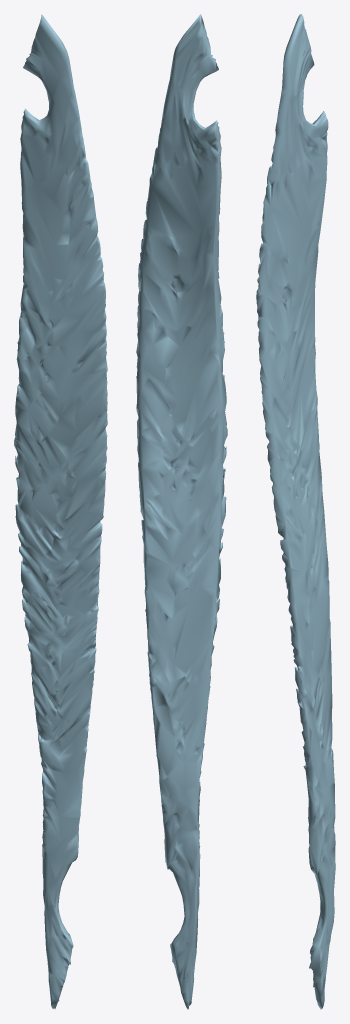
The model's file is articulacoes-interosseous-membrane-of-leg-r.glb.
3 views of the same model, side by side, from view 1: azimuth 30°, elevation 25°; view 2: azimuth 210°, elevation 25°; view 3: azimuth 270°, elevation 25° (orthographic). The views are drawn at different scales.
Visible parts, largest first — view 1: Interosseous membrane of leg.r; view 2: Interosseous membrane of leg.r; view 3: Interosseous membrane of leg.r.
Boxes of the visible parts, box(x1,y1,x2,y2) form: Interosseous membrane of leg.r: box(14, 14, 107, 1009); Interosseous membrane of leg.r: box(136, 14, 227, 1009); Interosseous membrane of leg.r: box(256, 14, 335, 1009).
Size of the model in its own units: 0.0225 by 0.2927 by 0.0214.
